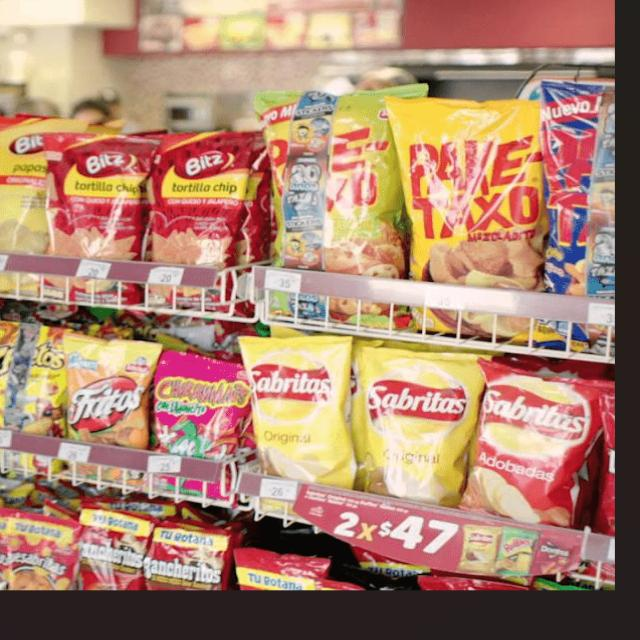bitzEnchilado90: (46, 137, 145, 271), (158, 136, 244, 269)
churrumais: (152, 376, 250, 477), (150, 374, 248, 452)
fritosLimon: (59, 352, 141, 456)
rancheritos: (80, 518, 150, 594), (150, 543, 226, 595)
sabritasOriginal: (367, 359, 467, 502), (255, 348, 342, 480)
